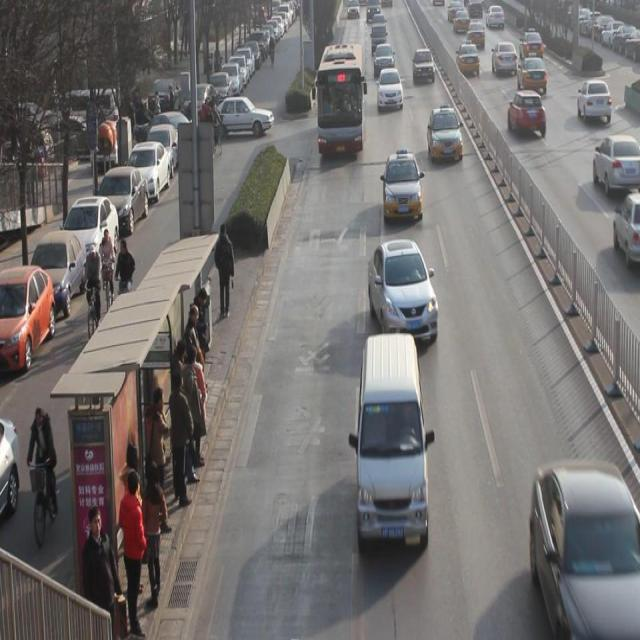car: (528, 461, 640, 625), (368, 238, 439, 340), (384, 149, 424, 220), (593, 136, 640, 193), (428, 104, 463, 162), (508, 86, 547, 138), (577, 77, 612, 124), (518, 52, 548, 93), (378, 67, 404, 108), (492, 39, 518, 75), (456, 39, 480, 76), (521, 25, 544, 60), (413, 48, 436, 82), (373, 42, 395, 74), (466, 16, 485, 46)
truck: (358, 334, 428, 548), (370, 22, 388, 51)
van: (315, 42, 365, 154)
